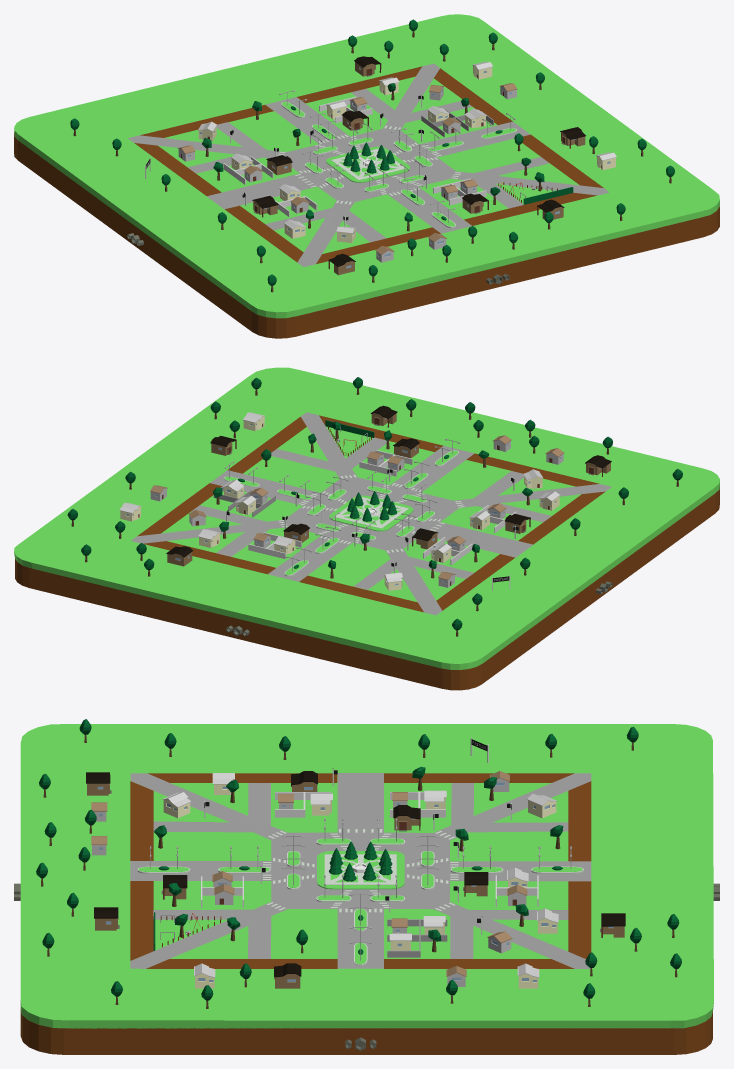
3 views of the same model, one above another, from view 1: azimuth 30°, elevation 25°; view 2: azimuth 150°, elevation 25°; view 3: azimuth 270°, elevation 25° (orthographic). The views are drawn at different scales.
Visible parts, largest first — view 1: Plano.001, Centro_Avenidas, Plano, CalleTierra8, CalleTierra7, CalleTierra3, CalleTierra4, CalleTierra5, CalleTierra1, CalleTierra6, CalleTierra2, PlazaCentral; view 2: Plano.001, Centro_Avenidas, Plano, CalleTierra6, CalleTierra8, CalleTierra7, CalleTierra4, CalleTierra3, CalleTierra1, CalleTierra5, PlazaCentral, CalleTierra2; view 3: Plano.001, Centro_Avenidas, Plano, CalleTierra6, CalleTierra2, CalleTierra1, CalleTierra5, CalleTierra4, CalleTierra3, PlazaCentral, CalleTierra7, CalleTierra8 (+10 smaller).
Part boxes in pixels (left/top/right/bottom): Plano.001: left=14, top=14, right=719, bottom=318; Centro_Avenidas: left=128, top=63, right=608, bottom=266; Plano: left=14, top=132, right=719, bottom=338; CalleTierra8: left=225, top=205, right=303, bottom=262; CalleTierra7: left=134, top=143, right=221, bottom=195; CalleTierra3: left=522, top=134, right=603, bottom=187; CalleTierra4: left=434, top=68, right=512, bottom=124; CalleTierra5: left=297, top=66, right=421, bottom=103; CalleTierra1: left=316, top=227, right=440, bottom=263; CalleTierra6: left=140, top=105, right=273, bottom=137; CalleTierra2: left=464, top=193, right=596, bottom=225; PlazaCentral: left=326, top=146, right=410, bottom=182; Plano.001: left=14, top=367, right=719, bottom=669; Centro_Avenidas: left=131, top=412, right=611, bottom=615; Plano: left=15, top=487, right=719, bottom=690; CalleTierra6: left=299, top=575, right=423, bottom=612; CalleTierra8: left=518, top=491, right=604, bottom=544; CalleTierra7: left=436, top=554, right=514, bottom=610; CalleTierra4: left=137, top=483, right=222, bottom=536; CalleTierra3: left=228, top=417, right=306, bottom=473; CalleTierra1: left=466, top=453, right=599, bottom=486; CalleTierra5: left=143, top=541, right=275, bottom=574; PlazaCentral: left=329, top=495, right=413, bottom=531; CalleTierra2: left=319, top=415, right=443, bottom=451; Plano.001: left=20, top=724, right=713, bottom=1028; Centro_Avenidas: left=130, top=773, right=591, bottom=968; Plano: left=20, top=1008, right=712, bottom=1054; CalleTierra6: left=568, top=781, right=591, bottom=861; CalleTierra2: left=130, top=881, right=153, bottom=960; CalleTierra1: left=130, top=781, right=153, bottom=860; CalleTierra5: left=568, top=881, right=591, bottom=958; CalleTierra4: left=384, top=959, right=574, bottom=968; CalleTierra3: left=146, top=959, right=337, bottom=968; PlazaCentral: left=317, top=851, right=404, bottom=889; CalleTierra7: left=384, top=773, right=574, bottom=782; CalleTierra8: left=148, top=773, right=337, bottom=782.
Bounding box in the file's own units: 80.03 × 7.13 × 78.93.
